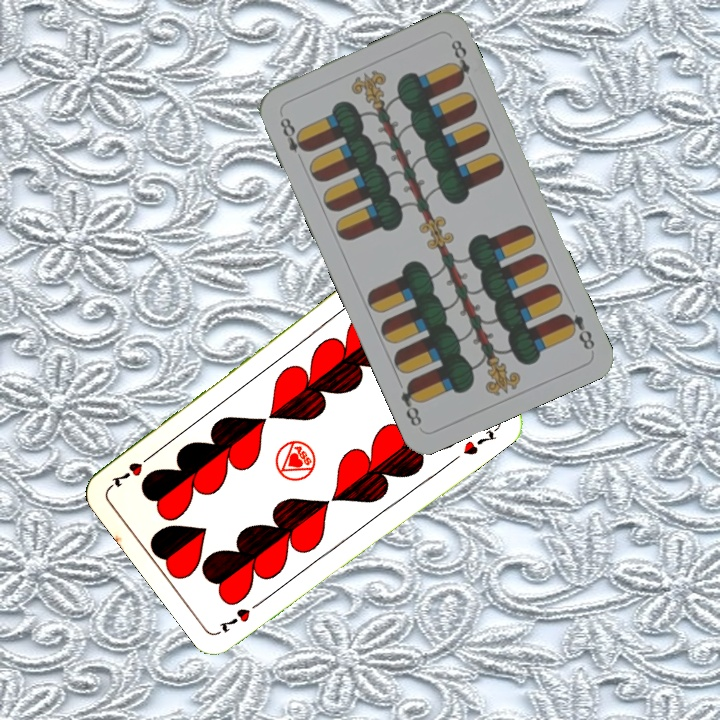E8: (559, 309, 598, 353), (275, 113, 311, 155)
H7: (215, 595, 267, 635)
